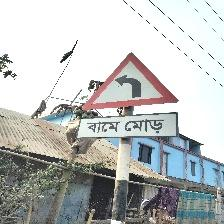Left-Turn: (77, 53, 181, 141)
